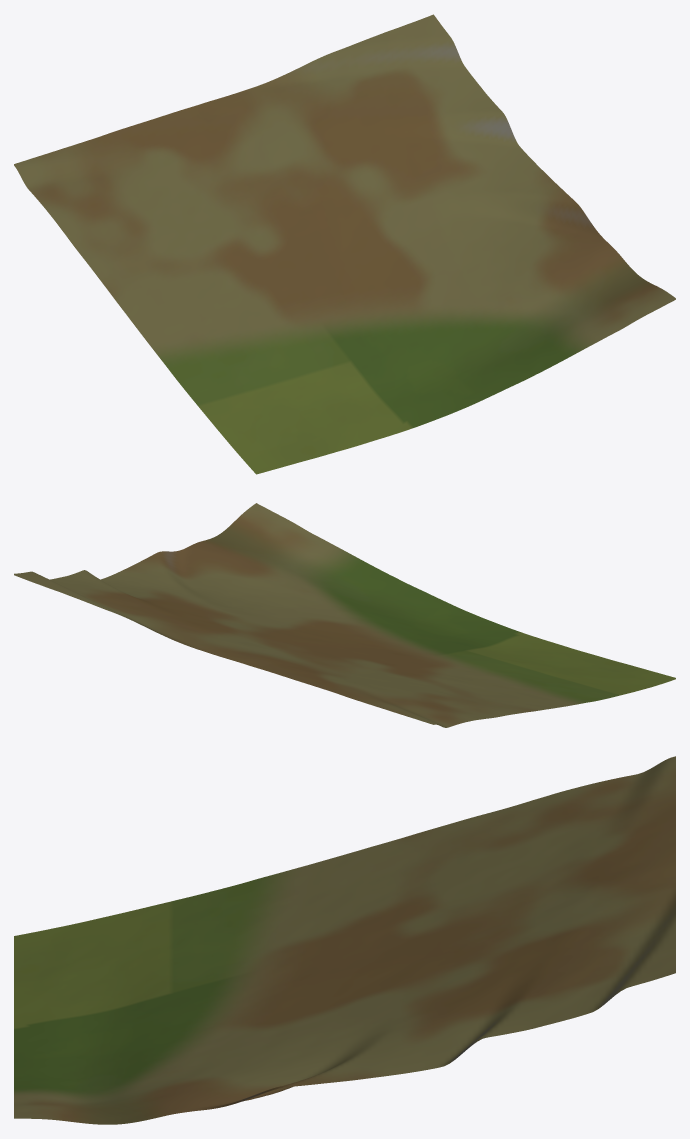
The model's file is land_n_03_00.glb.
The picture shows the model from 3 angles, top to bottom: view 1: azimuth 30°, elevation 25°; view 2: azimuth 150°, elevation 25°; view 3: azimuth 270°, elevation 25°; orthographic projection. The views are drawn at different scales.
Visible parts, largest first — view 1: land_n_03_00; view 2: land_n_03_00; view 3: land_n_03_00.
Boxes of the visible parts, x1,y1,x2,y2 form: land_n_03_00: (14, 14, 675, 474); land_n_03_00: (14, 503, 675, 727); land_n_03_00: (14, 756, 675, 1124).
Size of the model in its own units: 480 by 197 by 480.
